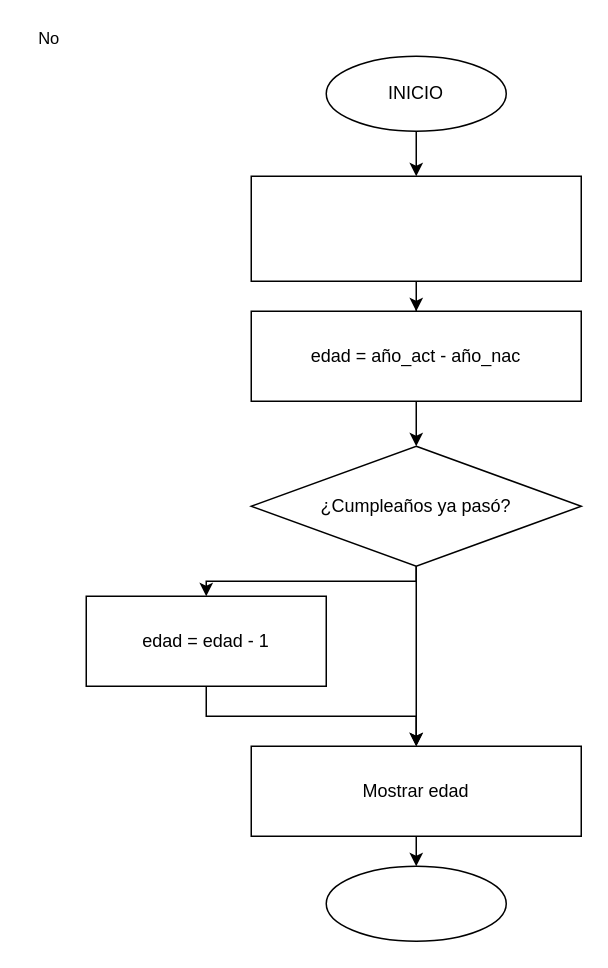
The diagram is 608 pixels wide and 968 high, and some of its shapes have lost their labels. Each missing label, with the box of its shape:
FIN: (325, 865, 506, 941)
Leer fecha nacimiento y fecha actual: (250, 175, 581, 281)
